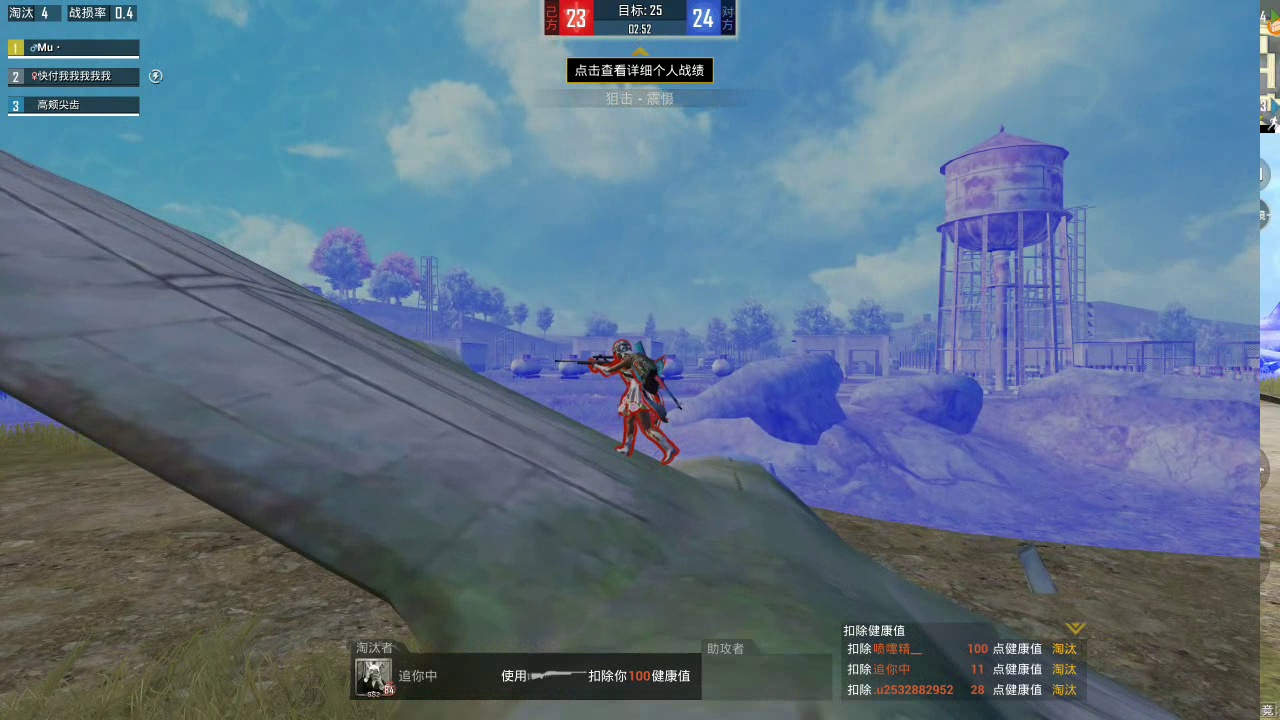enemy: (607, 338, 675, 459)
